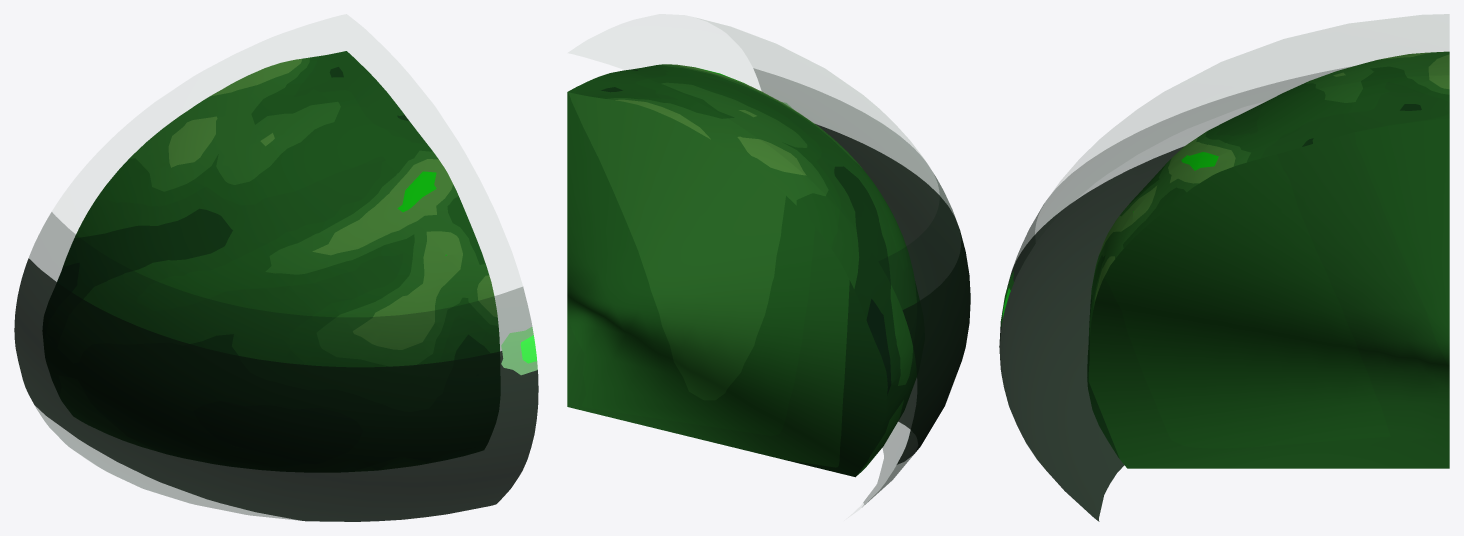
Rendered from glass_globe_bl_199.glb.
3 views of the same model, side by side, from view 1: azimuth 30°, elevation 25°; view 2: azimuth 150°, elevation 25°; view 3: azimuth 270°, elevation 25° (orthographic). The views are drawn at different scales.
Visible parts, largest first — view 1: glass_globe_bl; view 2: glass_globe_bl; view 3: glass_globe_bl.
Boxes of the visible parts, left/top/right/bottom form: glass_globe_bl: left=14, top=51, right=538, bottom=521; glass_globe_bl: left=567, top=21, right=970, bottom=506; glass_globe_bl: left=999, top=14, right=1449, bottom=521.
Size of the model in its own units: 22.88 by 25.09 by 22.9.
